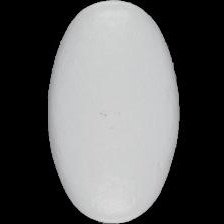0046-1103: (0, 0, 224, 224)
